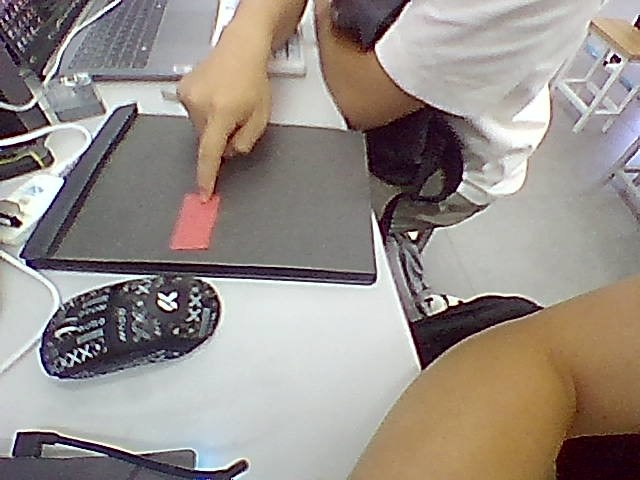card: (171, 194, 218, 249)
